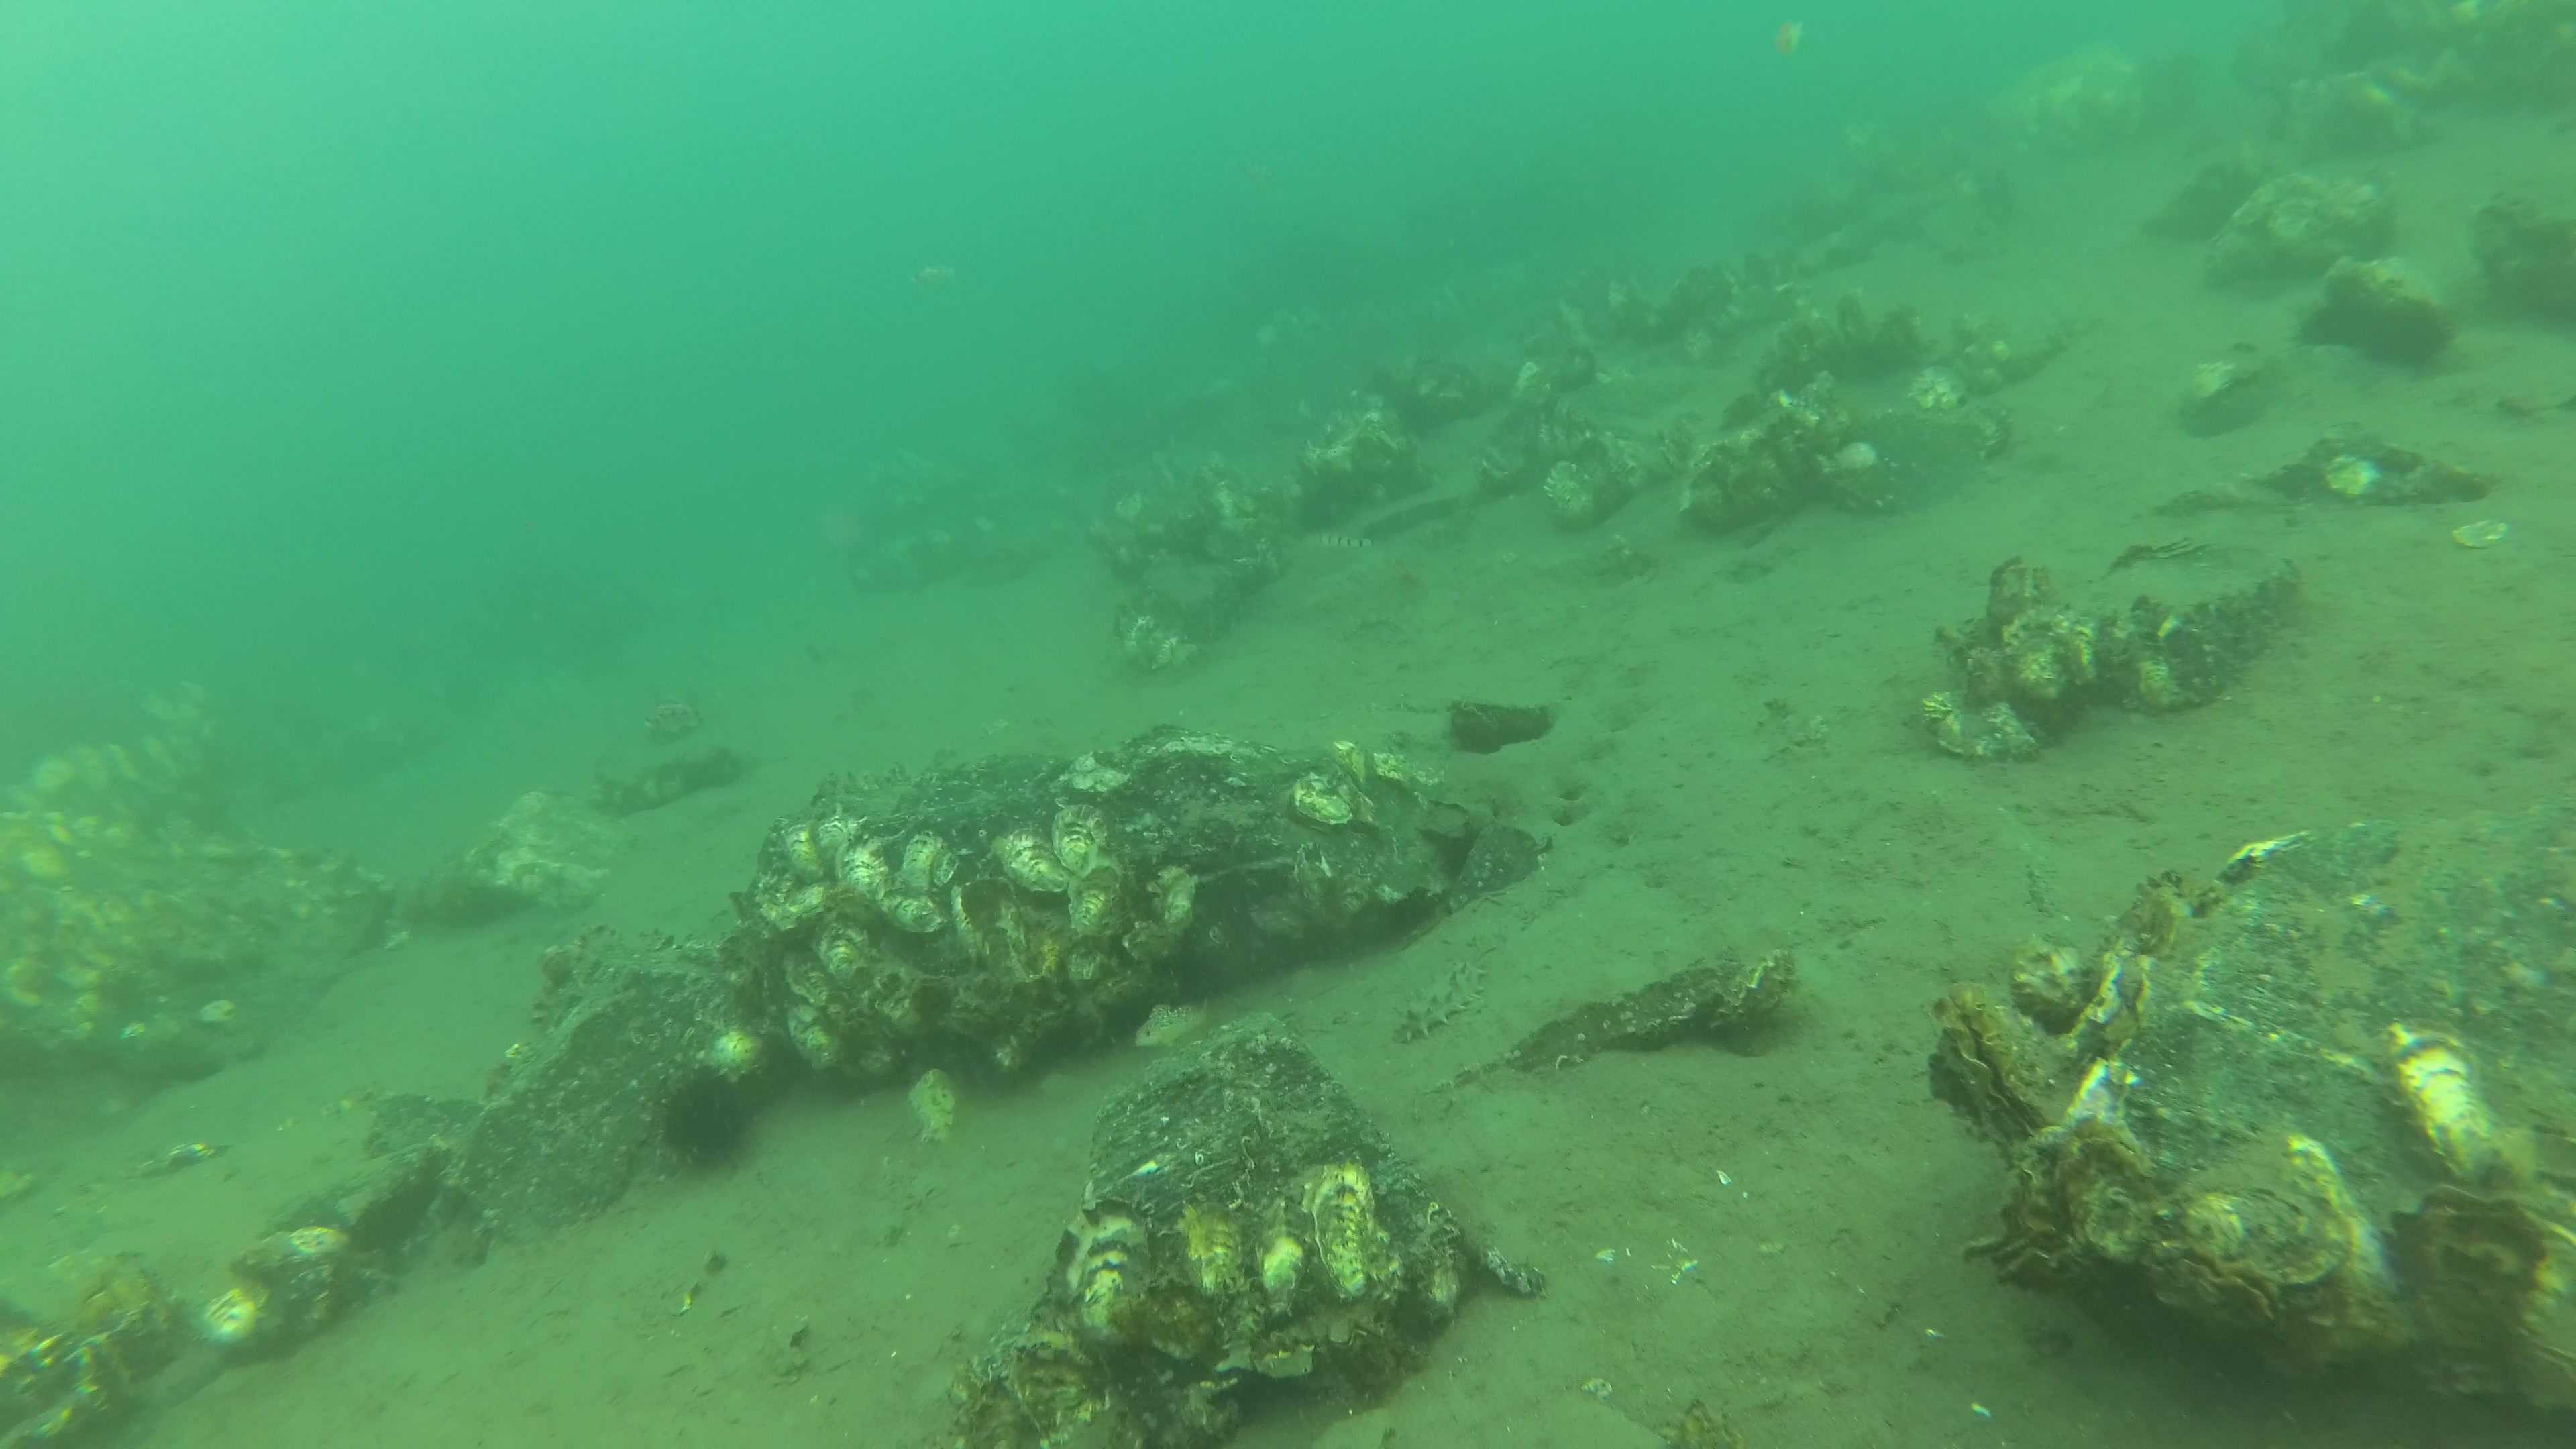echinus: (655, 1065, 755, 1173)
